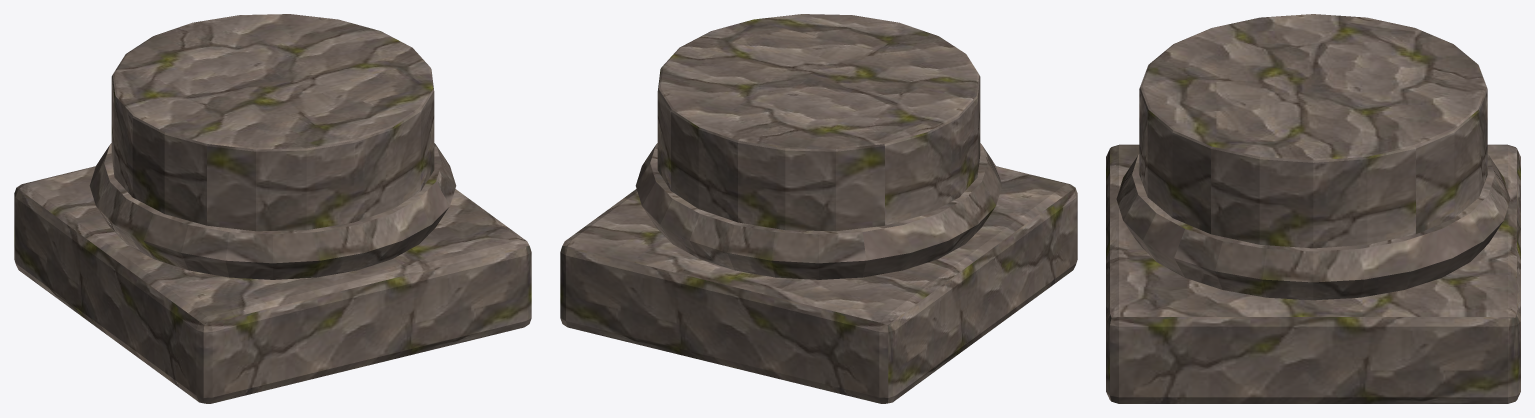
The model's file is column_base__cut_stone.glb.
3 renders of one model, left to right at view 1: azimuth 30°, elevation 25°; view 2: azimuth 150°, elevation 25°; view 3: azimuth 270°, elevation 25°, orthographic. The views are drawn at different scales.
Visible parts, largest first — view 1: model; view 2: model; view 3: model.
Boxes of the visible parts, x1,y1,x2,y2 form: model: (14,14,531,403); model: (560,14,1077,403); model: (1106,14,1520,403).
Bounding box in the file's own units: 0.8 × 0.5 × 0.8.
1 material, 1 textured.
